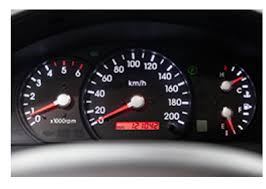Digital_Meter: (113, 122, 162, 131)
